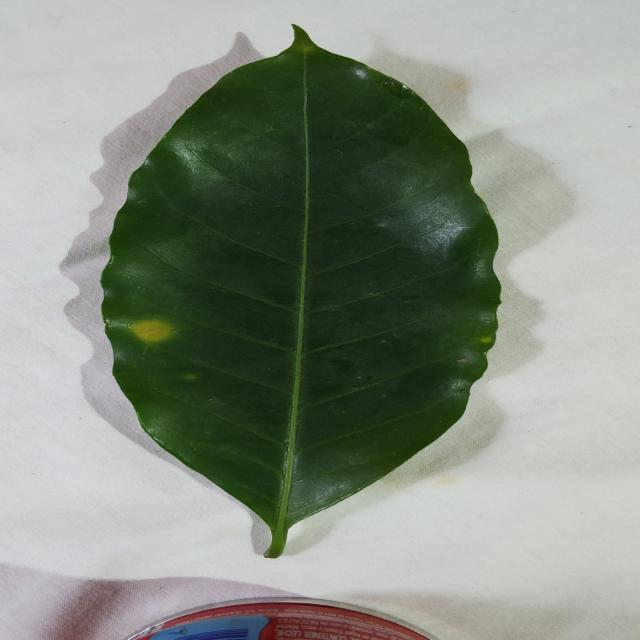Enfermedad-Roya: (101, 28, 503, 561)
